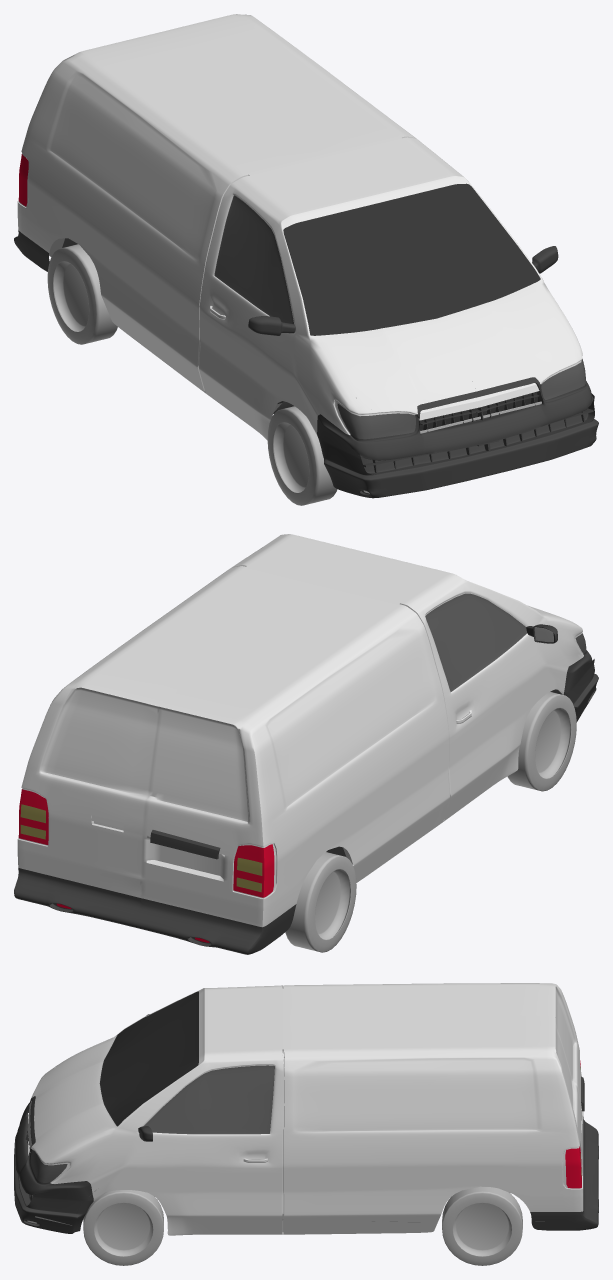
The model's file is SM_yunsongche.fbx.
3 renders of one model, top to bottom at view 1: azimuth 30°, elevation 25°; view 2: azimuth 150°, elevation 25°; view 3: azimuth 270°, elevation 25°, orthographic. The views are drawn at different scales.
Visible parts, largest first — view 1: yunsongche; view 2: yunsongche; view 3: yunsongche.
Boxes of the visible parts, <box> form: yunsongche: <box>14,14,598,505</box>; yunsongche: <box>14,534,598,954</box>; yunsongche: <box>14,983,598,1265</box>.
Bounding box in the file's own units: 320 × 245 × 650.
